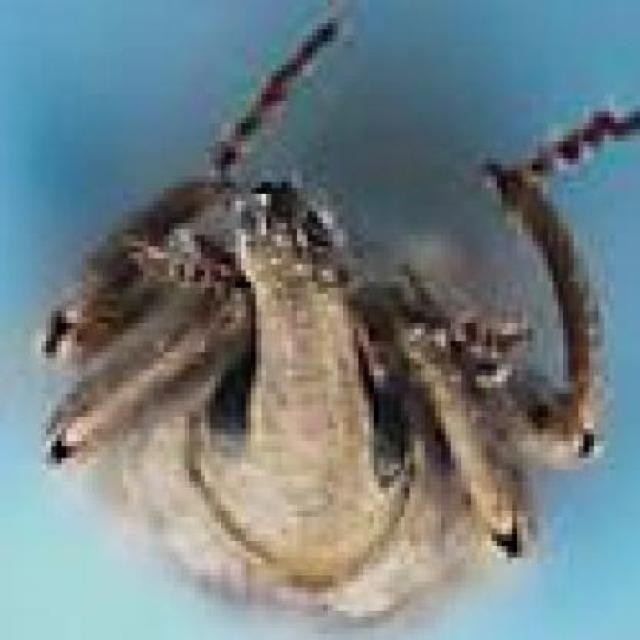rice-bug: (28, 35, 603, 628)
